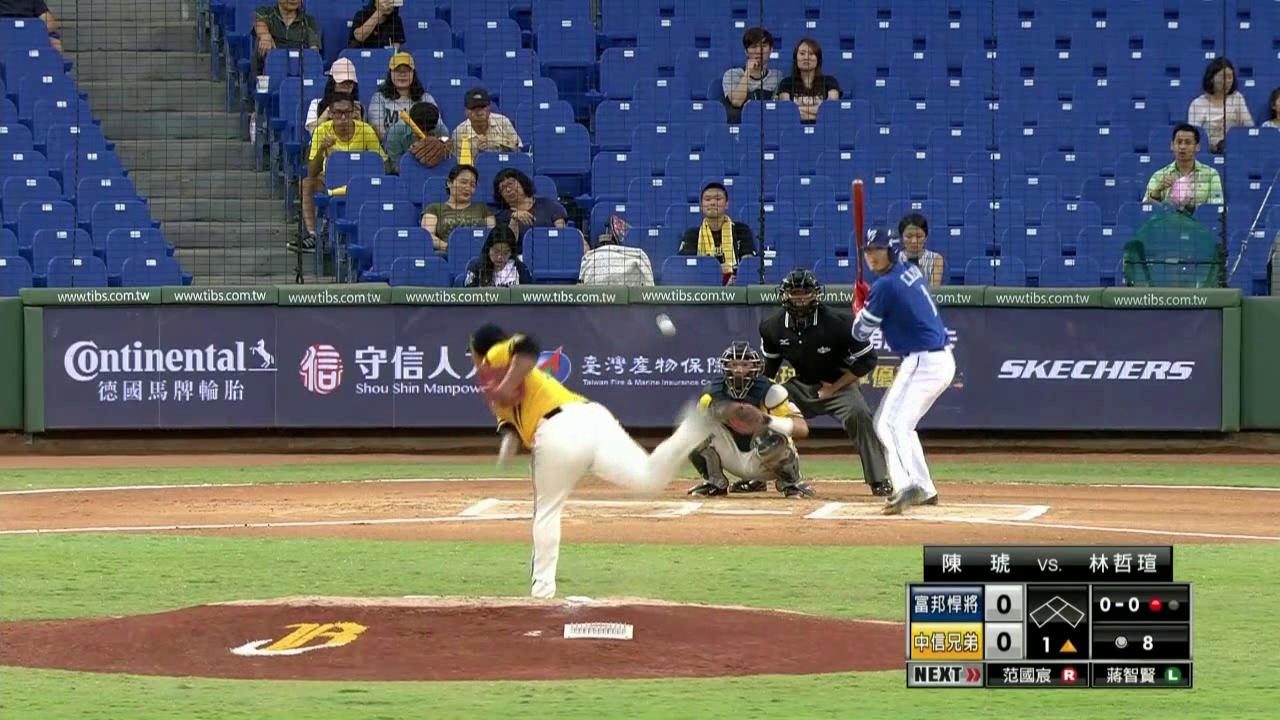ball: (654, 318, 670, 333)
base: (1029, 591, 1085, 631)
bat: (846, 179, 868, 284)
out: (1145, 592, 1183, 614)
score1: (989, 590, 1019, 621)
score2: (989, 627, 1018, 658)
session: (1029, 633, 1082, 658)
strikeball: (1094, 588, 1143, 619)
total: (1108, 628, 1163, 659)
